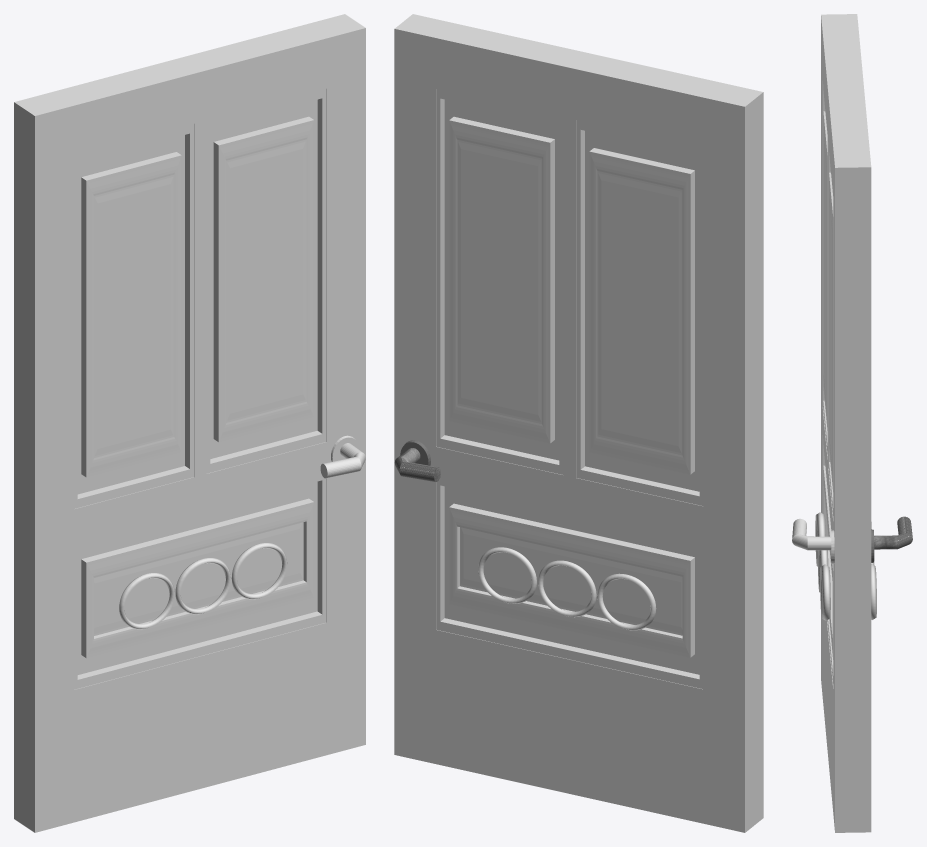
Rendered from TexturedDoor2.fbx.
The picture shows the model from 3 angles, left to right: view 1: azimuth 30°, elevation 25°; view 2: azimuth 150°, elevation 25°; view 3: azimuth 270°, elevation 25°; orthographic projection. The views are drawn at different scales.
Parts seen in each view (by area): view 1: door, BezierCircle.005, handle 2; view 2: door, BezierCircle.005, handle 5; view 3: door, BezierCircle.005, handle 2, handle 5.
Boxes of the visible parts, box(x1,y1,x2,y2) form: door: box(14, 14, 365, 832); BezierCircle.005: box(119, 543, 287, 629); handle 2: box(320, 435, 365, 478); door: box(394, 14, 763, 832); BezierCircle.005: box(478, 547, 656, 630); handle 5: box(394, 440, 440, 481); door: box(821, 14, 871, 832); BezierCircle.005: box(815, 512, 876, 620); handle 2: box(792, 518, 834, 563); handle 5: box(871, 516, 912, 562).
Bounding box in the file's own units: 102 × 206 × 33.98.
